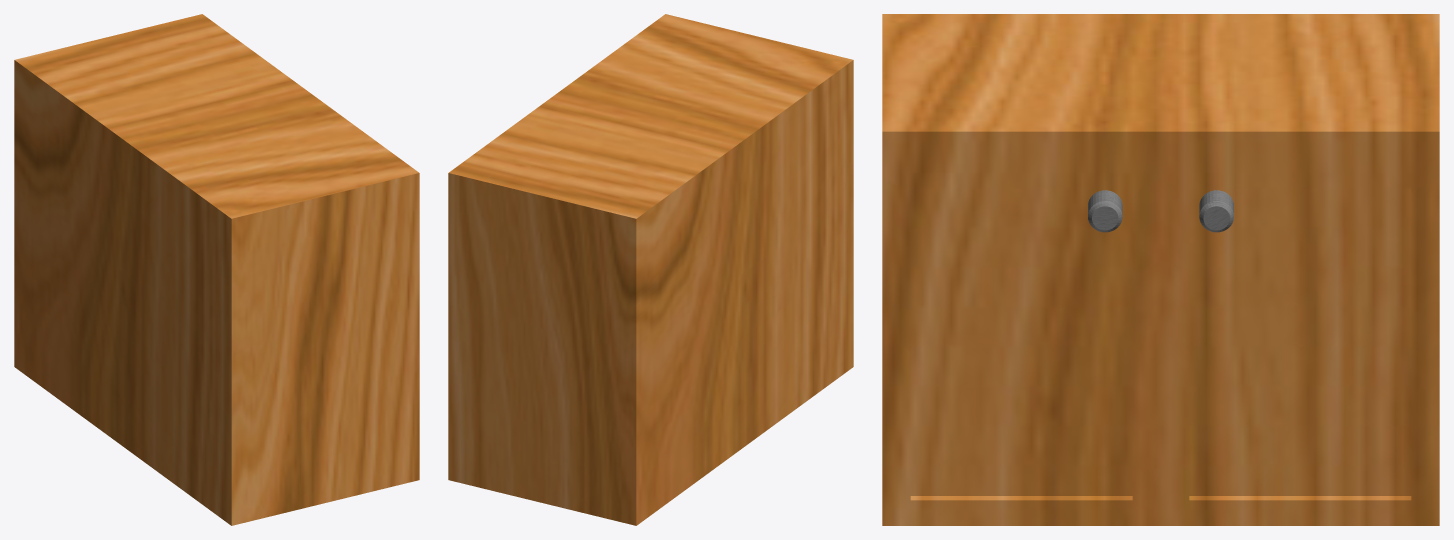
File: CupboardBottom.fbx
3 views of the same model, side by side, from view 1: azimuth 30°, elevation 25°; view 2: azimuth 150°, elevation 25°; view 3: azimuth 270°, elevation 25° (orthographic). The views are drawn at different scales.
Visible parts, largest first — view 1: CupboardsBottom; view 2: CupboardsBottom; view 3: CupboardsBottom.
Part boxes in pixels (bbox=[...]): CupboardsBottom: bbox=[14, 14, 419, 525]; CupboardsBottom: bbox=[448, 14, 853, 525]; CupboardsBottom: bbox=[882, 14, 1439, 525].
Size of the model in its own units: 214 by 312 by 400.
